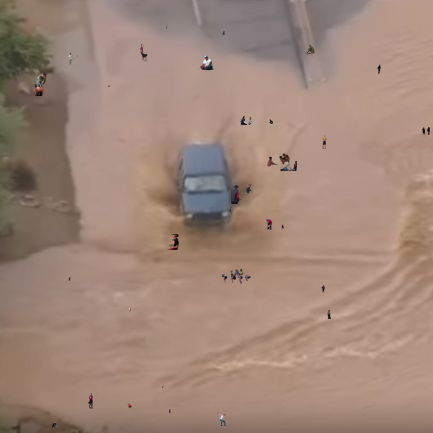Human: (217, 269, 251, 285), (267, 153, 297, 171), (231, 184, 257, 204), (140, 44, 168, 62), (34, 72, 47, 96), (198, 55, 215, 71), (266, 219, 285, 232), (167, 234, 179, 250), (64, 53, 78, 65), (217, 412, 227, 427), (240, 116, 252, 125), (306, 44, 315, 55), (88, 393, 93, 409), (322, 135, 327, 149), (422, 127, 430, 135), (327, 310, 332, 319), (126, 403, 132, 410), (265, 119, 273, 124), (377, 64, 381, 74), (52, 422, 58, 428), (321, 285, 325, 293), (229, 205, 232, 212), (162, 385, 165, 389), (166, 25, 169, 29), (68, 277, 71, 281), (222, 31, 225, 35), (169, 409, 171, 414), (129, 307, 131, 312), (108, 82, 110, 87)
